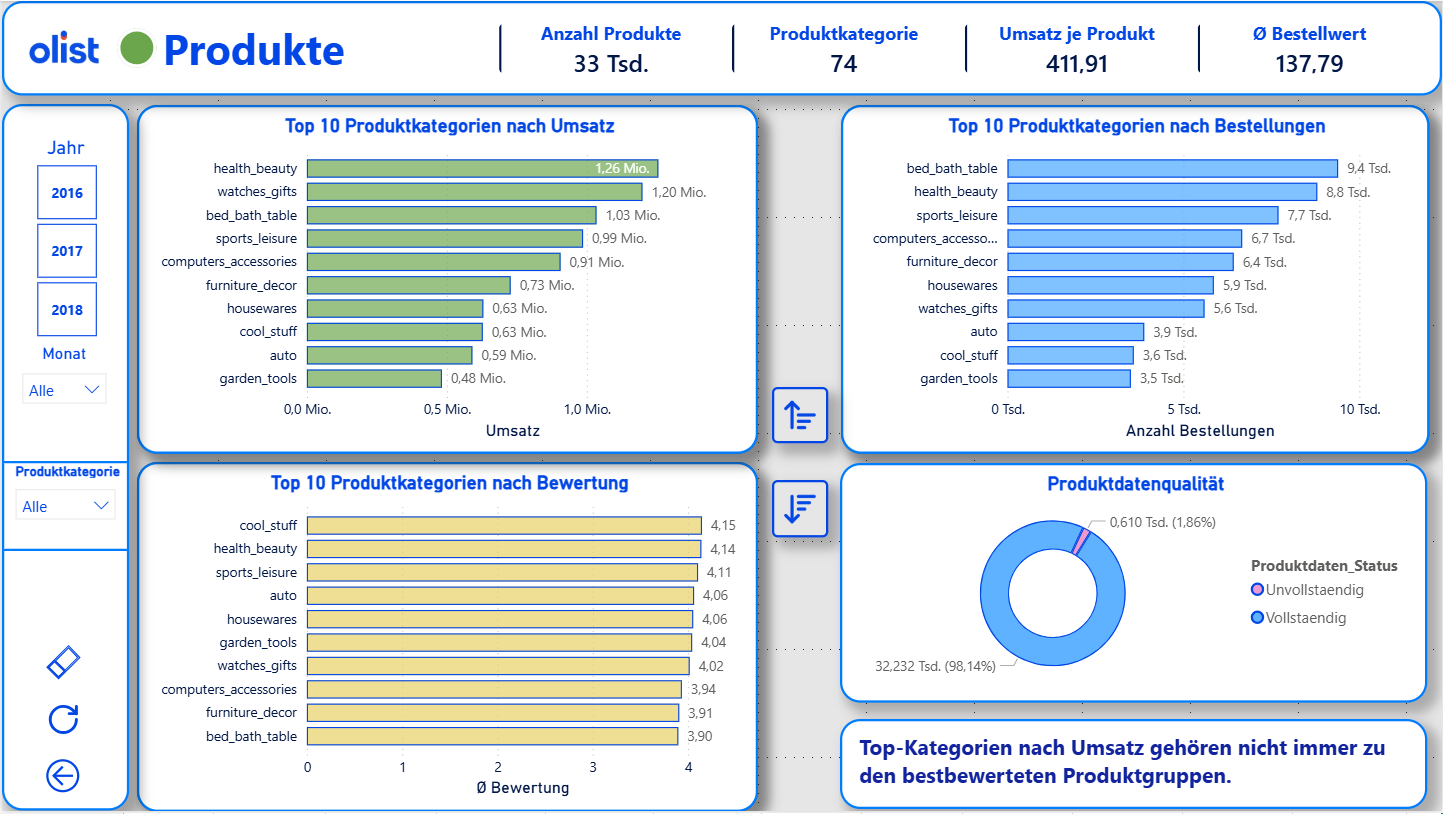

This screenshot's page, from the dashboard's own definition file:
{"tool":"powerbi","page":{"name":"Produkte 2.1","canvas":[1280,720],"ordinal":3},"visuals":[{"type":"barChart","title":"10 Schwach Produktkategorien nach Bewertung","fields":{"Category":["Dim_Produkte.product_category_name_english"],"Y":["_Measures.AVG Bewertung"]},"box":[119.7,409.5,552.3,310.5],"z":0},{"type":"barChart","title":"Top 10 Produktkategorien nach Bewertung","fields":{"Category":["Dim_Produkte.product_category_name_english"],"Y":["_Measures.AVG Bewertung"]},"box":[119.7,410.1,552.3,310.5],"z":1000},{"type":"barChart","title":"10 Schwächste Produktkategorien nach Umsatz","fields":{"Category":["Dim_Produkte.product_category_name_english"],"Y":["_Measures.Umsatz"]},"box":[119.7,92.4,552.3,310],"z":2000},{"type":"barChart","title":"10 Schwächste Produktkategorien nach Bestellungen","fields":{"Category":["Dim_Produkte.product_category_name_english"],"Y":["_Measures.Anzahl Bestellungen"]},"box":[745.5,92.4,522.7,310],"z":3000},{"type":"barChart","title":"Top 10 Produktkategorien nach Bestellungen","fields":{"Category":["Dim_Produkte.product_category_name_english"],"Y":["_Measures.Anzahl Bestellungen"]},"box":[745.5,92.4,522.7,310],"z":4000},{"type":"barChart","title":"Top 10 Produktkategorien nach Umsatz","fields":{"Category":["Dim_Produkte.product_category_name_english"],"Y":["_Measures.Umsatz"]},"box":[119.7,92.4,552.3,310],"z":5000},{"type":"shape","box":[0,91.6,113,627.9],"z":6000},{"type":"shape","box":[0,0,1280,83.7],"z":7000},{"type":"image","box":[23.2,19.9,64,43],"z":8000},{"type":"shape","box":[102.6,24.3,35.3,35.3],"z":9000},{"type":"cardVisual","title":"Umsatz","fields":{"Data":["_Measures.Anzahl Produkten","_Measures.Anzahl Produktkategorie","_Measures.Umsatz je Produkt","_Measures.AVG Bestellwert"]},"box":[424.7,5.8,855.3,72.7],"z":10000},{"type":"actionButton","box":[33.5,668.5,44,40.5],"z":11000},{"type":"slicer","title":"Jahr","fields":{"Values":["Dim_Datum.Jahr"]},"box":[5,120,103,185],"z":12000},{"type":"image","box":[39.7,623.4,29.6,30.8],"z":13000},{"type":"actionButton","box":[34.5,567.7,40,40],"z":14000},{"type":"slicer","title":"Monat","fields":{"Values":["Dim_Datum.Monat"]},"box":[8.3,304.7,94.6,79.3],"z":15000},{"type":"actionButton","box":[684.4,343.4,49.7,49.7],"z":16000},{"type":"actionButton","box":[684.4,425.7,49.7,51.4],"z":17000},{"type":"donutChart","title":"Produktdatenqualität","fields":{"Y":["_Measures.Anzahl Produkte"],"Category":["Dim_Produkte.Produktdaten_Status"]},"box":[745.1,410.3,522.3,212.6],"z":18000},{"type":"slicer","title":"Produktkategorie","fields":{"Values":["Dim_Produkte.product_category_name_english"]},"box":[0,409,113,80],"z":19000},{"type":"textbox","title":"• Unvollständige Startdaten aus 2016 • Kaum Einfluss auf allgemeine KPI und kategorische Visualisierungen • Relevanter Einfluss auf Zeitreihen- und Time-Intelligence-Analysen","box":[745.1,638.5,522.3,80.1],"z":20000}]}

Visuals, with their boxes in screenshot pixels (x1, y1, x2, y2), scaled from the page's 1280x720 canvas onto the 1443x814 screenshot:
"10 Schwach Produktkategorien nach Bewertung" barChart: rect(135, 463, 758, 813)
"Top 10 Produktkategorien nach Bewertung" barChart: rect(135, 464, 758, 813)
"10 Schwächste Produktkategorien nach Umsatz" barChart: rect(135, 104, 758, 455)
"10 Schwächste Produktkategorien nach Bestellungen" barChart: rect(840, 104, 1430, 455)
"Top 10 Produktkategorien nach Bestellungen" barChart: rect(840, 104, 1430, 455)
"Top 10 Produktkategorien nach Umsatz" barChart: rect(135, 104, 758, 455)
shape: rect(0, 104, 127, 813)
shape: rect(0, 0, 1442, 95)
image: rect(26, 22, 98, 71)
shape: rect(116, 27, 155, 67)
"Umsatz" cardVisual: rect(479, 7, 1442, 89)
actionButton: rect(38, 756, 87, 802)
"Jahr" slicer: rect(6, 136, 122, 345)
image: rect(45, 705, 78, 740)
actionButton: rect(39, 642, 84, 687)
"Monat" slicer: rect(9, 344, 116, 434)
actionButton: rect(772, 388, 828, 444)
actionButton: rect(772, 481, 828, 539)
"Produktdatenqualität" donutChart: rect(840, 464, 1429, 704)
"Produktkategorie" slicer: rect(0, 462, 127, 553)
"• Unvollständige Startdaten aus 2016 • Kaum Einfluss auf allgemeine KPI und kategorische Visualisierungen • Relevanter Einfluss auf Zeitreihen- und Time-Intelligence-Analysen" textbox: rect(840, 722, 1429, 812)
